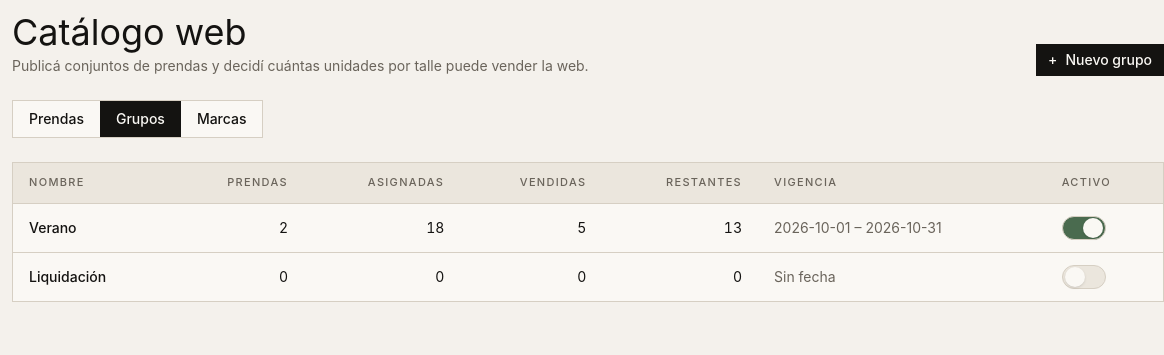
Test: GroupsView table › activates through the switch and shows the refusal from the domain
What coordinates should you click on to do the following:
click the switch named "Activo: Liquidación"
I would click on:
 (1084, 277)
Its box is [1062,265,1106,289].
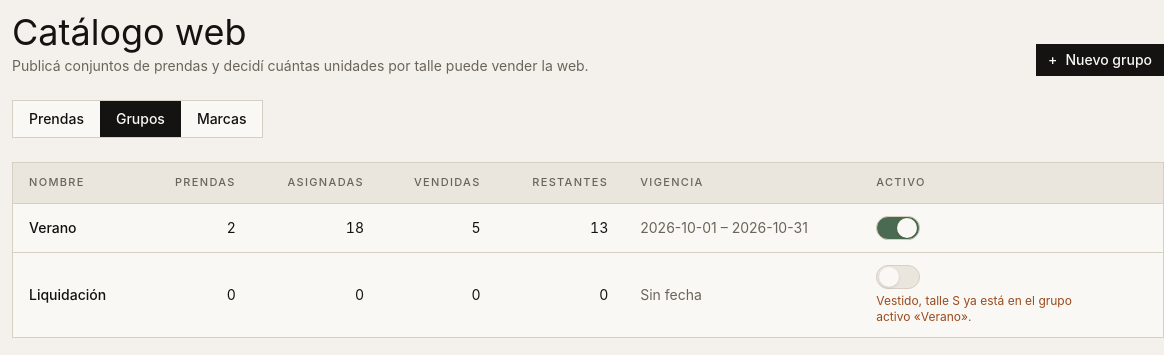
Now the message shows "ya está en el grupo activo", box [876,293,1072,324]
